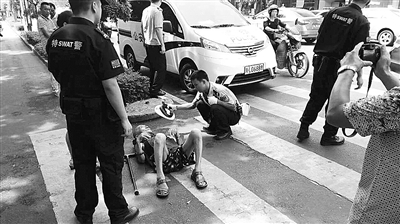fall: (127, 117, 213, 196)
